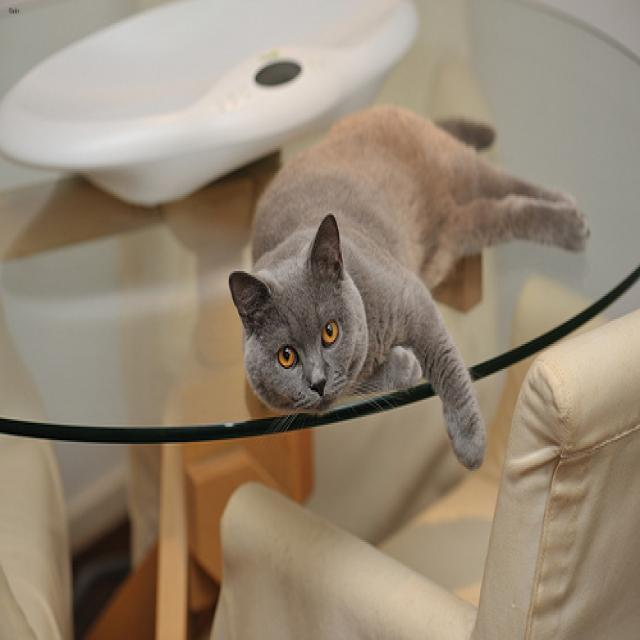British_Shorthair: (227, 201, 377, 440)
